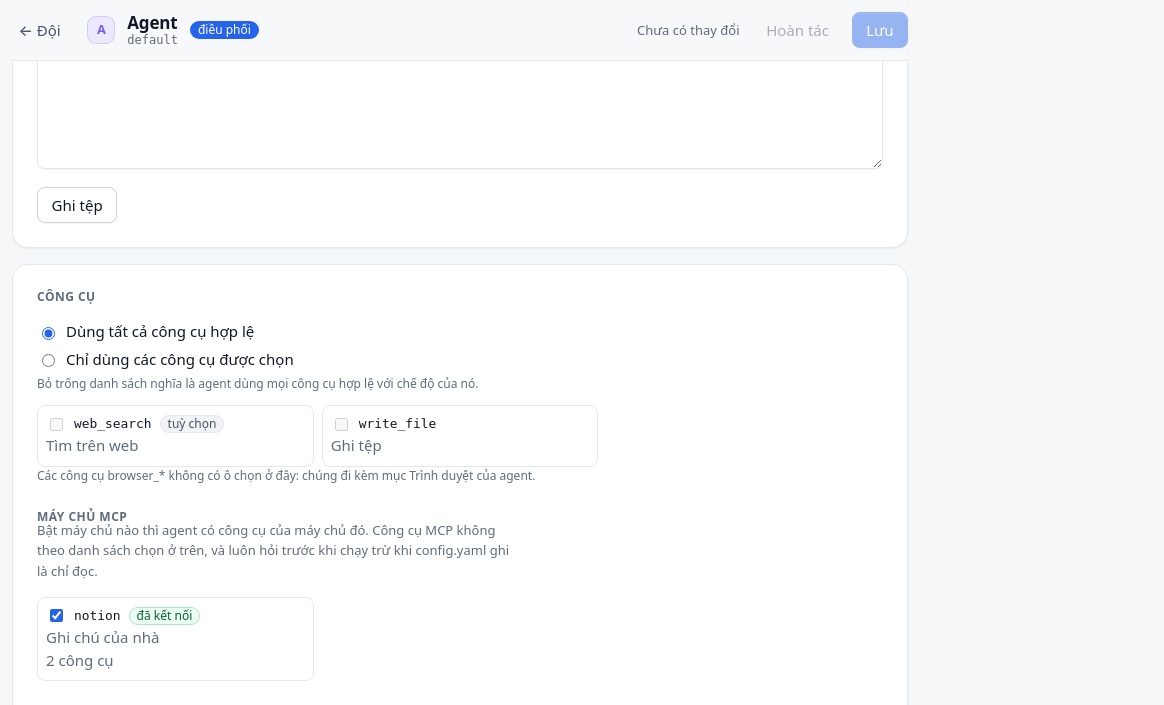
it: the allow-list beside a server's tools › starts from the crew's own tools when it is switched on, never a server's
(page scrolled)
What coordinates should you click on to do the following:
click the radio button labelled "Chỉ dùng các công cụ được chọn"
I would click on:
 (48, 361)
Its box is top-left (42, 354), bottom-right (55, 367).
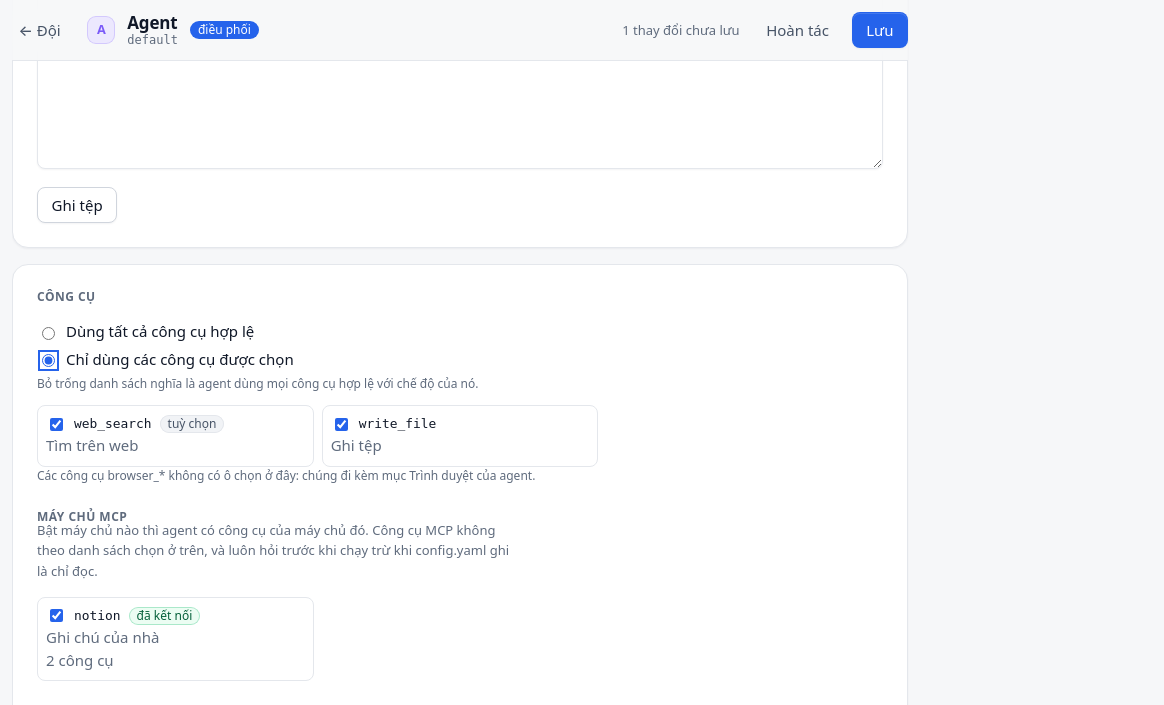
What coordinates should you click on to do the following:
click the button "Lưu"
I would click on:
 (880, 30)
Its box is top-left (852, 12), bottom-right (908, 48).
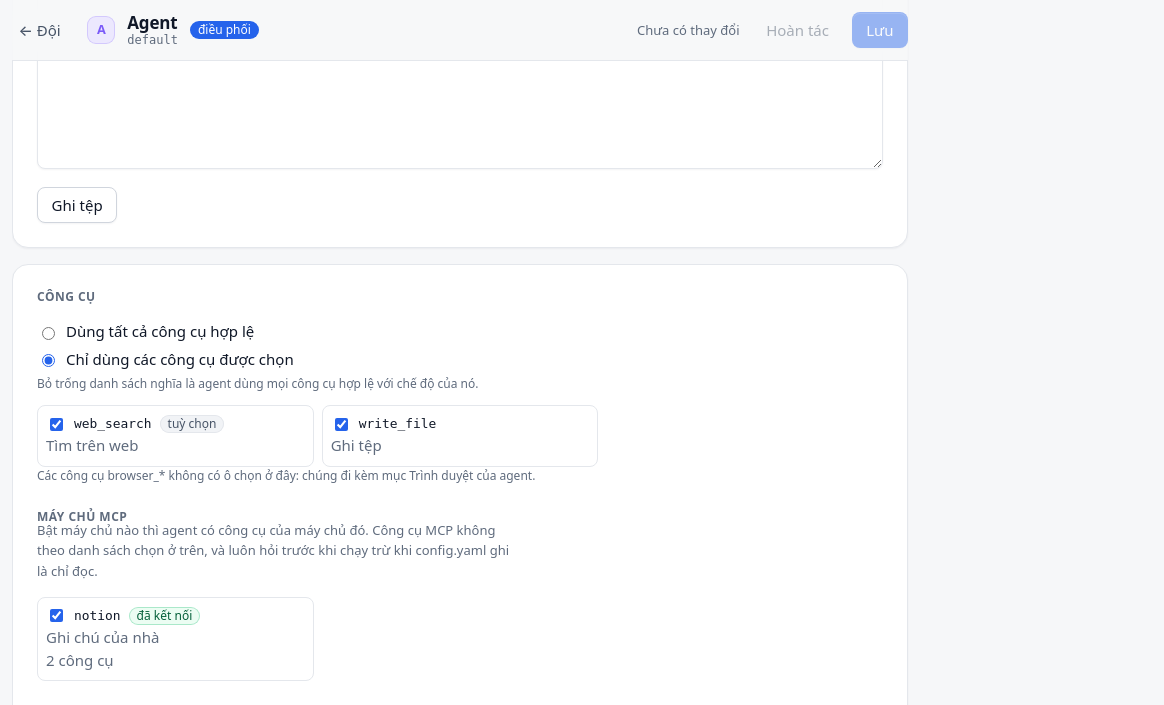
Result: the text "Chưa có thay đổi" is shown at top-left (637, 20), bottom-right (740, 40)
